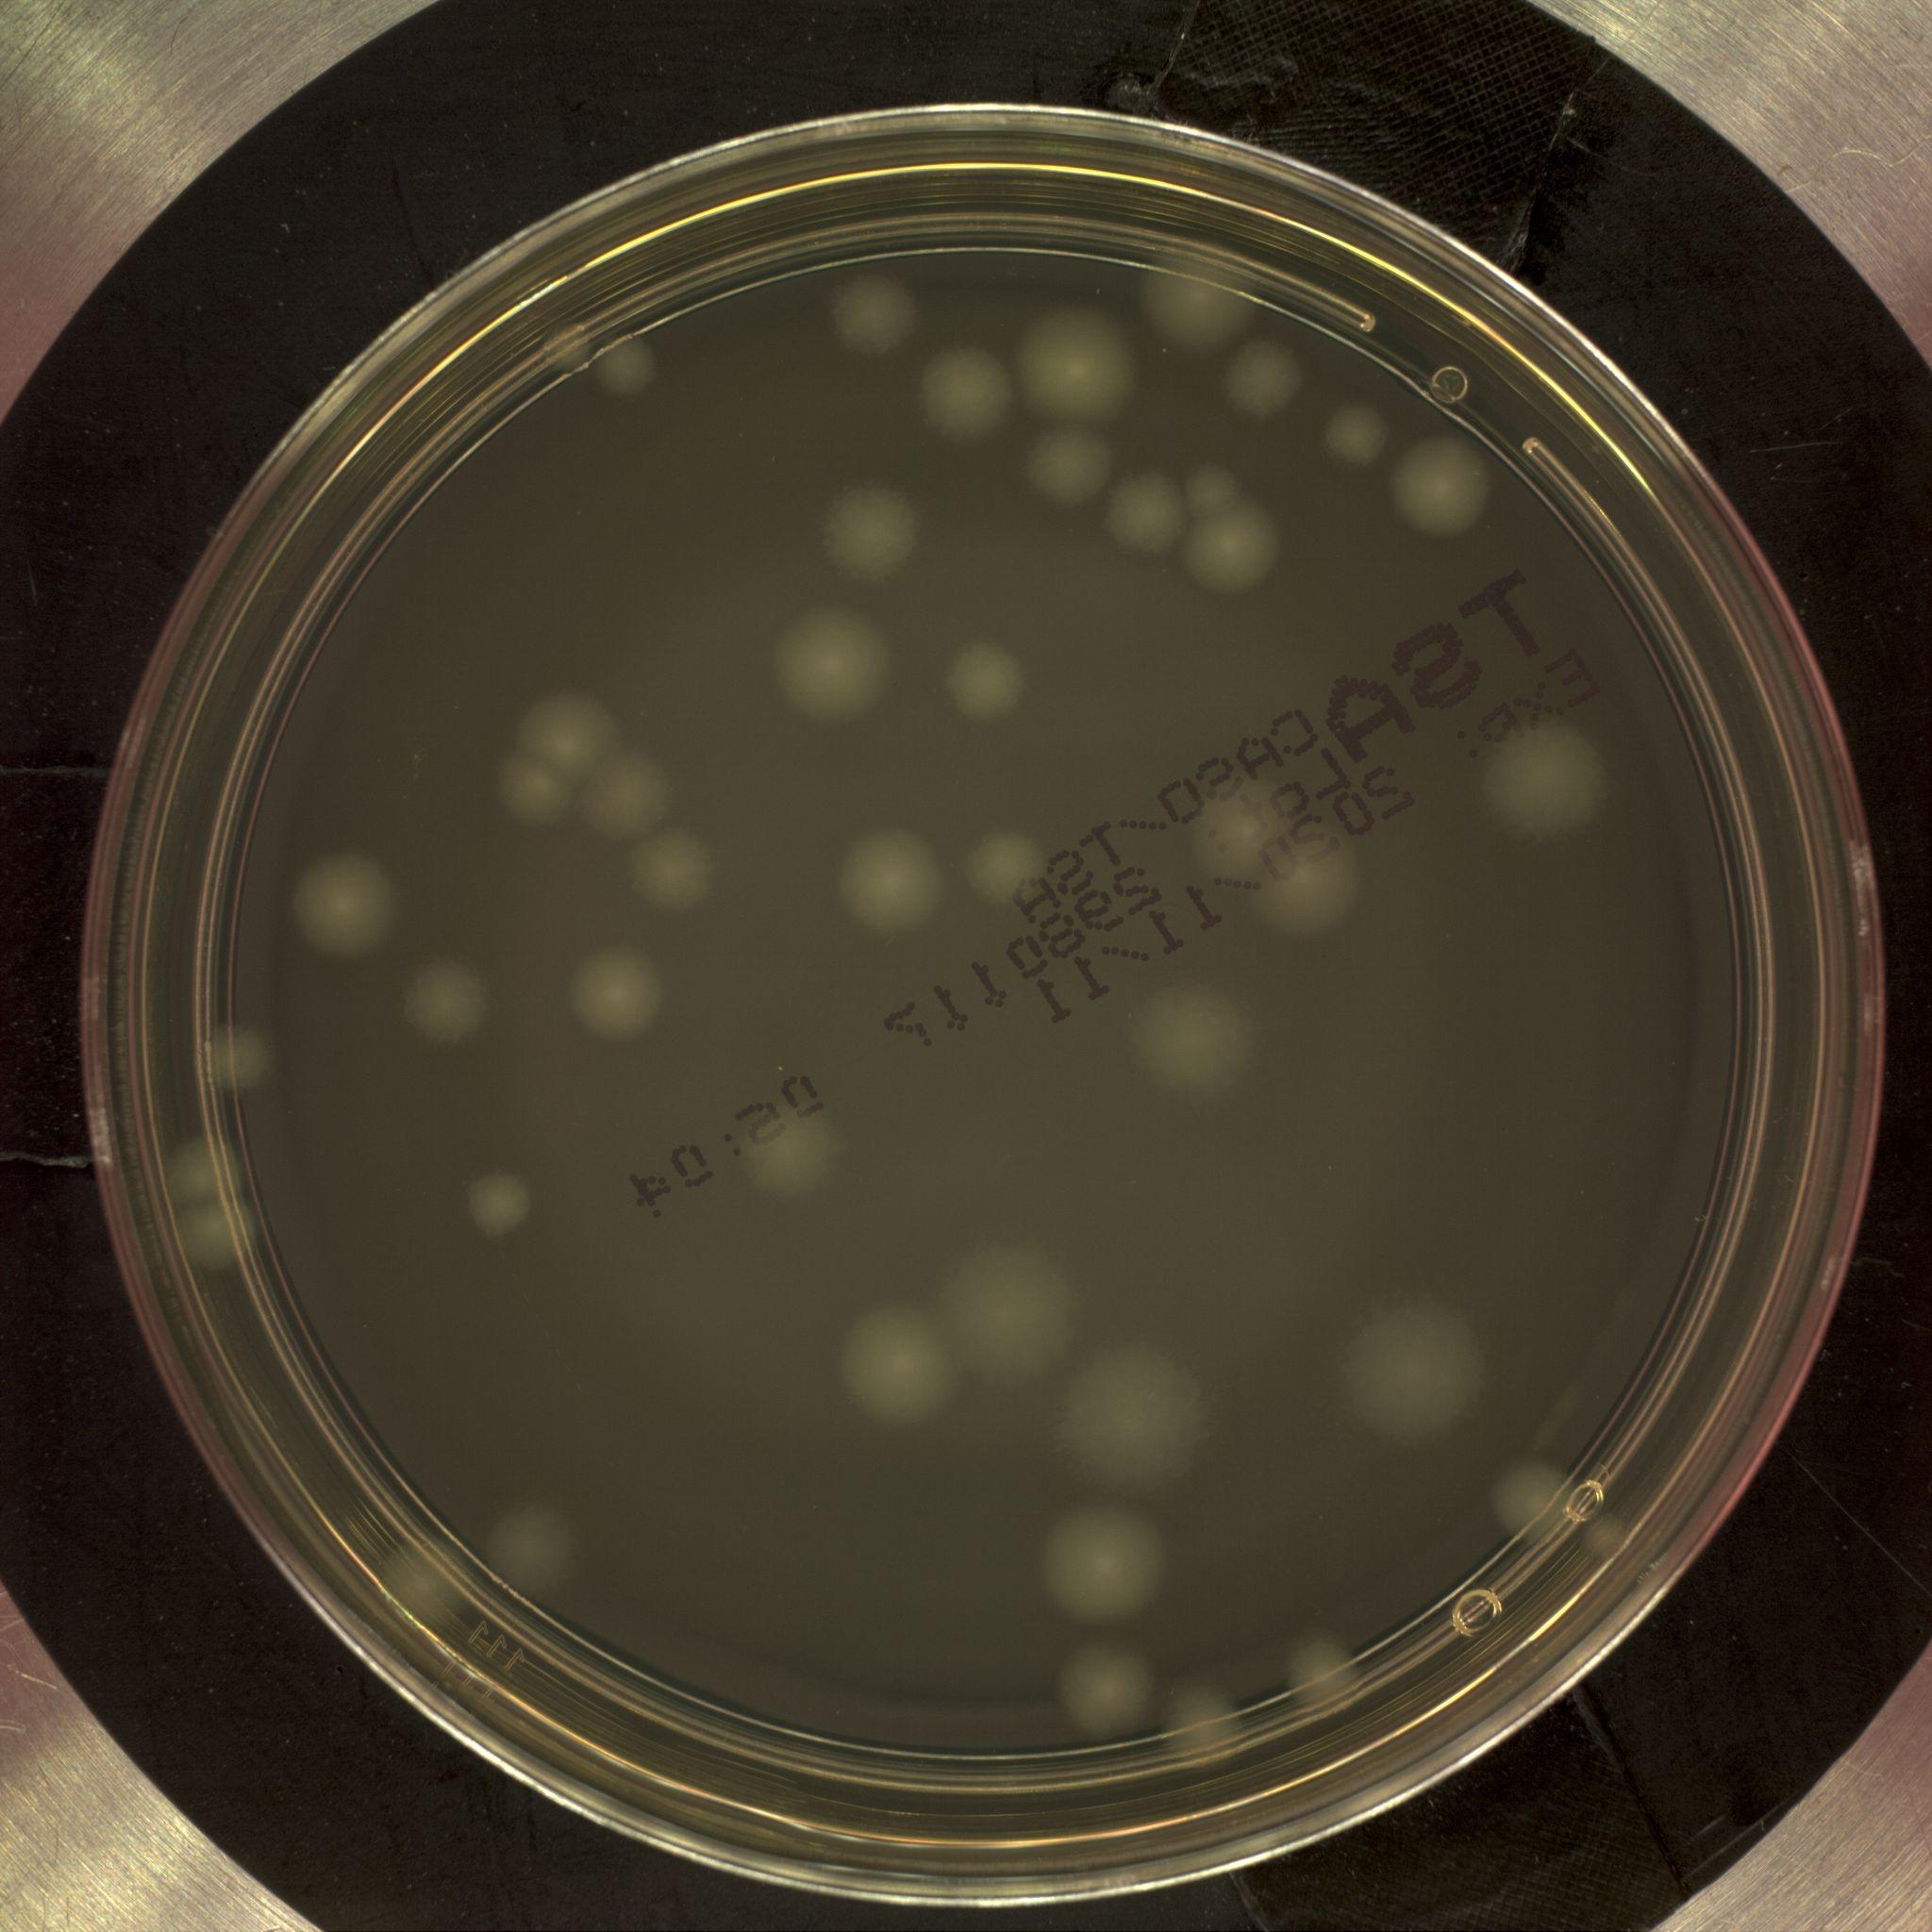e. coli: (1350, 1292, 1497, 1447), (614, 731, 732, 920), (1053, 1330, 1194, 1476), (1491, 1453, 1637, 1585), (1129, 977, 1270, 1109), (1488, 708, 1633, 835), (939, 1246, 1095, 1362), (1024, 1504, 1180, 1617), (1010, 297, 1143, 430), (359, 1518, 474, 1670), (506, 685, 625, 826), (538, 929, 672, 1047), (458, 1490, 605, 1594), (152, 1138, 257, 1283), (736, 1090, 856, 1212), (285, 855, 407, 971), (1392, 425, 1506, 547), (1146, 1660, 1256, 1783), (948, 812, 1063, 929), (1132, 232, 1261, 334), (1047, 1637, 1177, 1736), (846, 1311, 973, 1410), (911, 331, 1033, 433), (571, 306, 681, 419), (1274, 1628, 1392, 1730), (1265, 821, 1364, 939), (934, 637, 1058, 731), (1191, 764, 1288, 883), (821, 481, 931, 586), (832, 830, 945, 925), (1030, 419, 1143, 510), (1200, 501, 1299, 603), (1106, 476, 1200, 575), (1217, 334, 1313, 430), (793, 628, 874, 731), (1302, 391, 1398, 476), (407, 968, 488, 1062), (458, 1155, 540, 1249), (189, 1010, 285, 1090), (828, 274, 916, 349)
